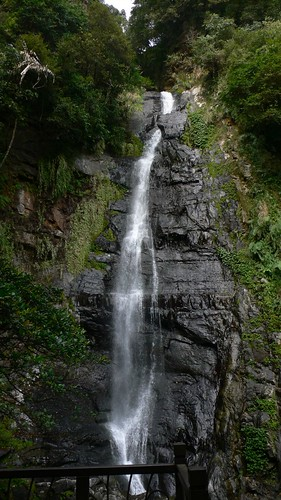wufengciWaterfall: (58, 65, 225, 483)
